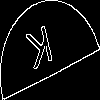K: (25, 25, 57, 79)
